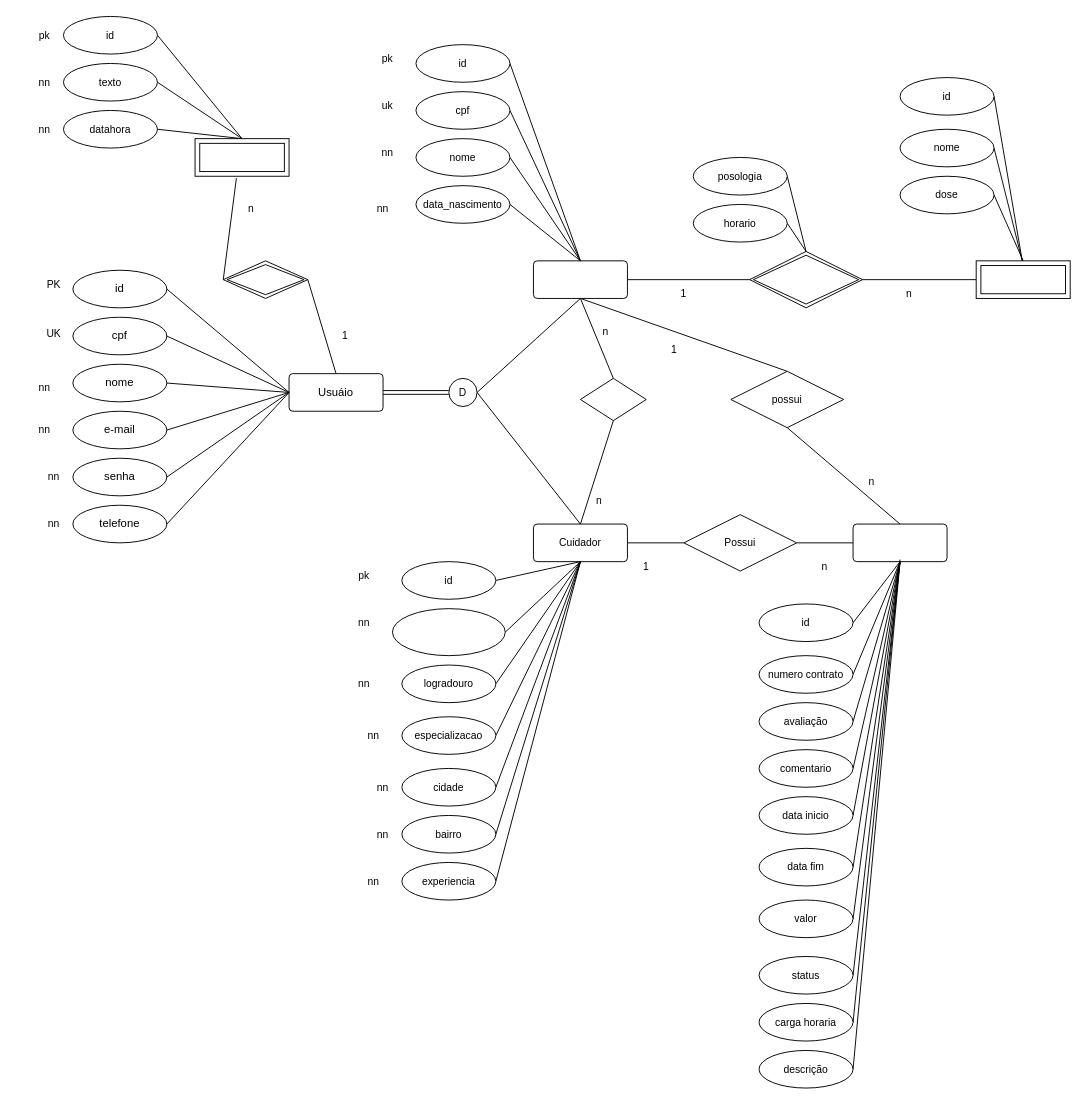
The diagram is 1087 pixels wide and 1105 high, and some of its shapes have lost their labels. Here are the shapes that lost their labels. From the top down, the centre of each, then its label:
point (241, 157): Mensagem
point (265, 279): Envia
point (580, 279): Idoso
point (805, 279): Utiliza
point (1022, 279): Medicamento
point (613, 399): Cuida
point (899, 542): Contrato
point (448, 632): disponibilidade horario
